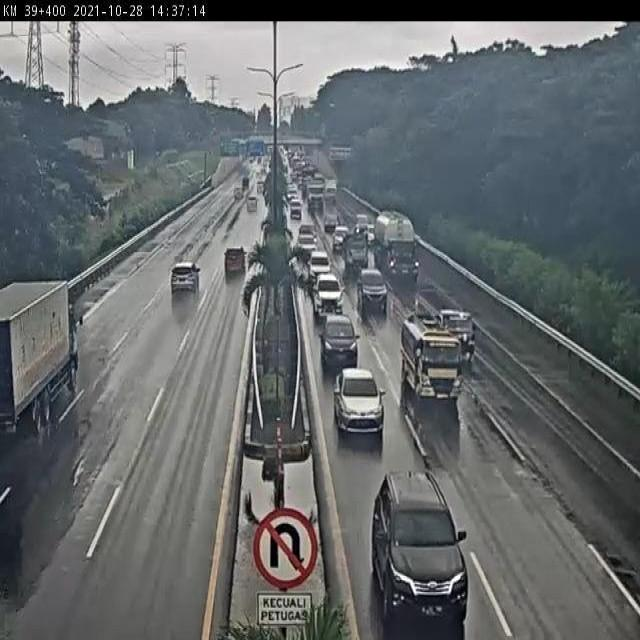big truck: (0, 282, 101, 442), (369, 208, 415, 277)
car: (370, 471, 468, 629), (332, 360, 382, 432), (437, 301, 483, 363), (320, 315, 357, 368), (161, 259, 202, 304), (220, 238, 250, 282), (358, 274, 387, 314), (315, 270, 343, 310), (306, 242, 326, 274), (294, 227, 315, 253), (330, 223, 344, 248), (243, 202, 257, 222), (289, 196, 301, 216), (231, 189, 242, 204)
small truck: (395, 313, 461, 408), (339, 228, 366, 264)
